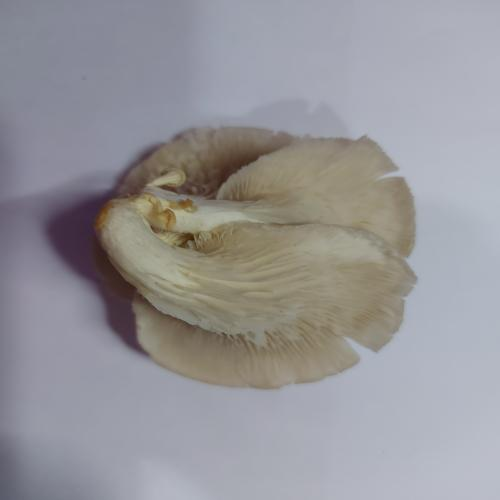Oyster Mushroom: (93, 124, 419, 389)
